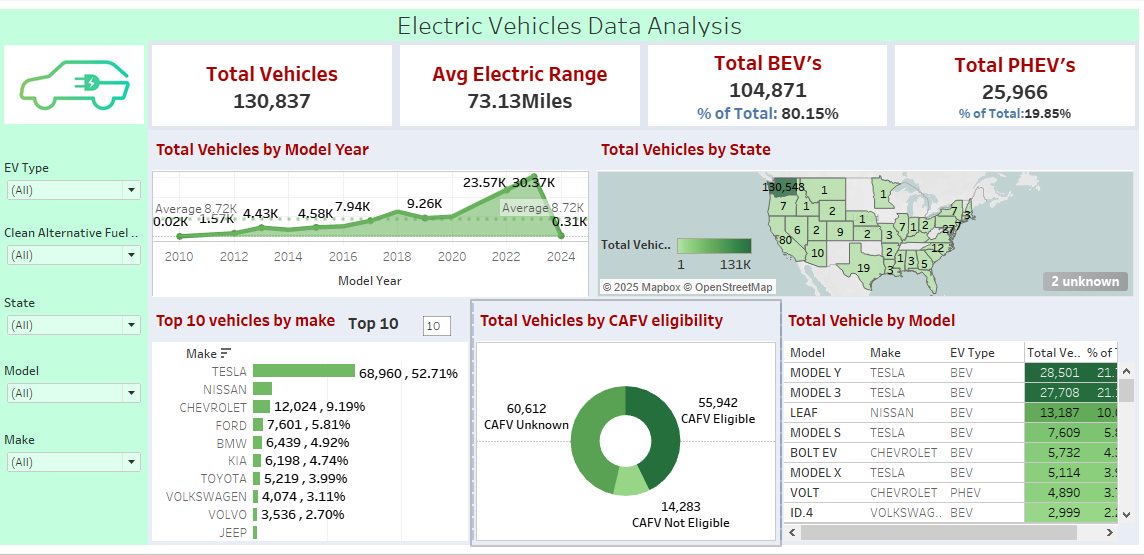

This screenshot's page, from the dashboard's own definition file:
{"tool":"tableau","page":{"name":"Electric Vehicles Data Analysis","canvas":[1000,1000],"units":"permille","ordinal":0},"visuals":[{"type":"title","box":[6.9,14.5,986.1,58]},{"type":"image","param":"C:/Users/User/Desktop/Tableau/240_F_524935557_JjYRXDktED3P5YlSnkAqikICzypWonqY.j","box":[6.9,72.5,128.1,206.5]},{"type":"worksheet","title":"Total Number of Vehicles","mark":"Automatic","box":[135.1,72.5,214.5,161.2]},{"type":"worksheet","title":"Average Electric Range","mark":"Automatic","box":[349.6,72.5,214.5,161.2]},{"type":"worksheet","title":"Total BEV vehicles","mark":"Automatic","box":[564.1,72.5,214.5,161.2]},{"type":"worksheet","title":"Total PHEV Vehicles","mark":"Automatic","box":[778.6,72.5,214.5,161.2]},{"type":"worksheet","title":"Total Vehicles by Model Year","mark":"Automatic","rows":["Calculation_482166687345598464","Calculation_482166687345598464"],"cols":["Model Year"],"box":[135.1,233.7,385.7,309.8]},{"type":"worksheet","title":"Total Vehicles by State","mark":"Automatic","box":[520.8,233.7,472.3,309.8]},{"type":"filter","title":"Top 10 vehicles by make","param":"[federated.1yxy09v00afh411gp5r5q1x13b9i].[none:Electric Vehicle Type:nk]","box":[6.9,279,128.1,117.8]},{"type":"filter","title":"Top 10 vehicles by make","param":"[federated.1yxy09v00afh411gp5r5q1x13b9i].[none:Clean Alternative Fuel Vehicle (C","box":[6.9,396.7,128.1,94.2]},{"type":"legend","title":"Total Vehicles by State","param":"[federated.1yxy09v00afh411gp5r5q1x13b9i].[usr:Calculation_482166687345598464:qk]","box":[527.3,422.1,134.2,68.8]},{"type":"filter","title":"Top 10 vehicles by make","param":"[federated.1yxy09v00afh411gp5r5q1x13b9i].[none:State:nk]","box":[6.9,523.5,128.1,123.2]},{"type":"worksheet","title":"Top 10 vehicles by make","mark":"Automatic","rows":["Make"],"cols":["Calculation_482166687345598464"],"box":[135.1,543.5,280.5,442]},{"type":"worksheet","title":"Total Vehicles by CAFV eligibility","mark":"Pie","rows":["Calculation_465841139837341698","Calculation_465841139837341698"],"box":[415.6,543.5,266.7,442]},{"type":"worksheet","title":"Total Vehicle by Model","mark":"Square","rows":["Model","Make","Electric Vehicle Type"],"box":[682.2,543.5,310.8,442]},{"type":"parameter","param":"[Parameters].[Parameter 1]","box":[308.2,565.2,91.8,43.5]},{"type":"filter","title":"Top 10 vehicles by make","param":"[federated.1yxy09v00afh411gp5r5q1x13b9i].[none:Model:nk]","box":[6.9,646.7,128.1,125]},{"type":"filter","title":"Top 10 vehicles by make","param":"[federated.1yxy09v00afh411gp5r5q1x13b9i].[none:Make:nk]","box":[6.9,771.7,128.1,170.3]}]}

Visuals, with their boxes on the dashboard's canvas, which has no fixed pixel size, in thousandths of its width and height (x1, y1, x2, y2). These are canvas units, not pixel positions in the 1144x555 screenshot, which may show the page scaled, cropped or inside an application window:
title: [x1=7, y1=14, x2=993, y2=72]
image: [x1=7, y1=72, x2=135, y2=279]
"Total Number of Vehicles" worksheet: [x1=135, y1=72, x2=350, y2=234]
"Average Electric Range" worksheet: [x1=350, y1=72, x2=564, y2=234]
"Total BEV vehicles" worksheet: [x1=564, y1=72, x2=779, y2=234]
"Total PHEV Vehicles" worksheet: [x1=779, y1=72, x2=993, y2=234]
"Total Vehicles by Model Year" worksheet: [x1=135, y1=234, x2=521, y2=544]
"Total Vehicles by State" worksheet: [x1=521, y1=234, x2=993, y2=544]
"Top 10 vehicles by make" filter: [x1=7, y1=279, x2=135, y2=397]
"Top 10 vehicles by make" filter: [x1=7, y1=397, x2=135, y2=491]
"Total Vehicles by State" legend: [x1=527, y1=422, x2=662, y2=491]
"Top 10 vehicles by make" filter: [x1=7, y1=524, x2=135, y2=647]
"Top 10 vehicles by make" worksheet: [x1=135, y1=544, x2=416, y2=986]
"Total Vehicles by CAFV eligibility" worksheet (Pie marks): [x1=416, y1=544, x2=682, y2=986]
"Total Vehicle by Model" worksheet (Square marks): [x1=682, y1=544, x2=993, y2=986]
parameter: [x1=308, y1=565, x2=400, y2=609]
"Top 10 vehicles by make" filter: [x1=7, y1=647, x2=135, y2=772]
"Top 10 vehicles by make" filter: [x1=7, y1=772, x2=135, y2=942]
